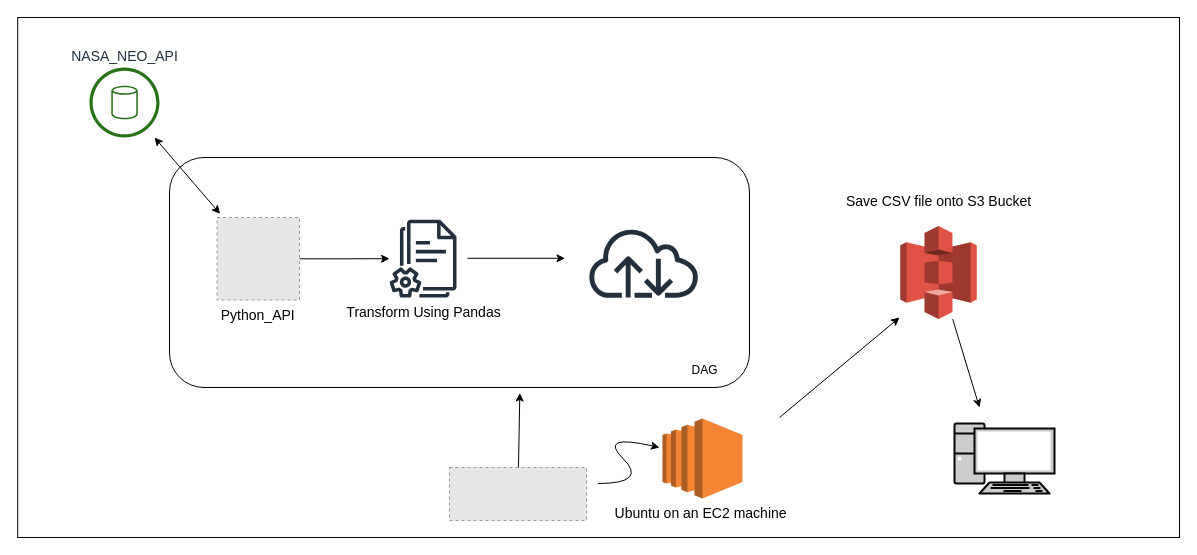
Image size: 1197x555. Some labels were removed from this diagram. Grey dashed boxes stand in for pictures. Here are the shapes that lost their labels. From the top down, the box of each, then its label:
(586, 227, 700, 297): Load into CSV for S3 Bucket
(953, 422, 1055, 494): Local Device
